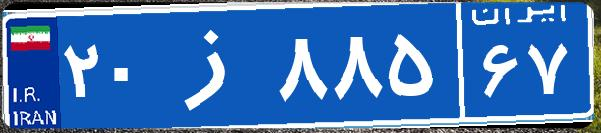0: (110, 28, 158, 105)
2: (57, 26, 110, 107)
5: (385, 28, 445, 110)
6: (475, 38, 525, 113)
7: (525, 38, 570, 115)
8: (273, 28, 330, 110), (330, 28, 385, 110)
ز: (158, 15, 273, 115)
